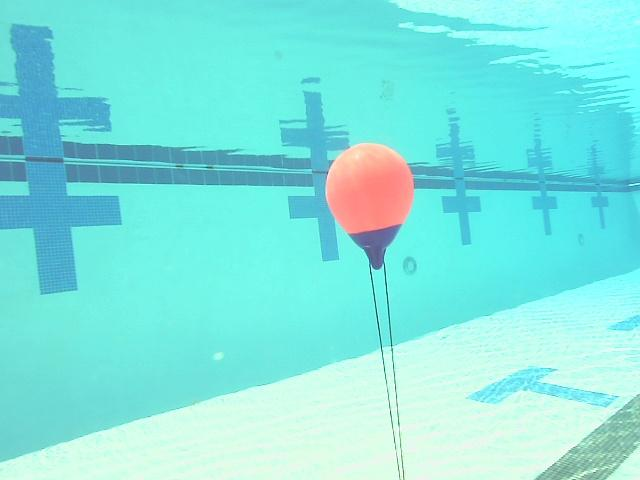buoy: (326, 142, 414, 270)
